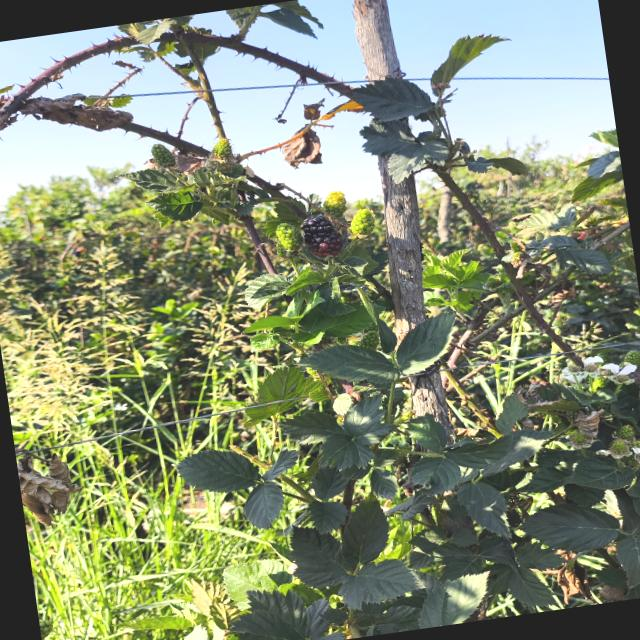marron: (301, 215, 343, 257)
verde: (350, 208, 375, 238), (276, 223, 302, 251), (323, 191, 347, 218), (151, 144, 177, 168), (212, 138, 232, 160)
